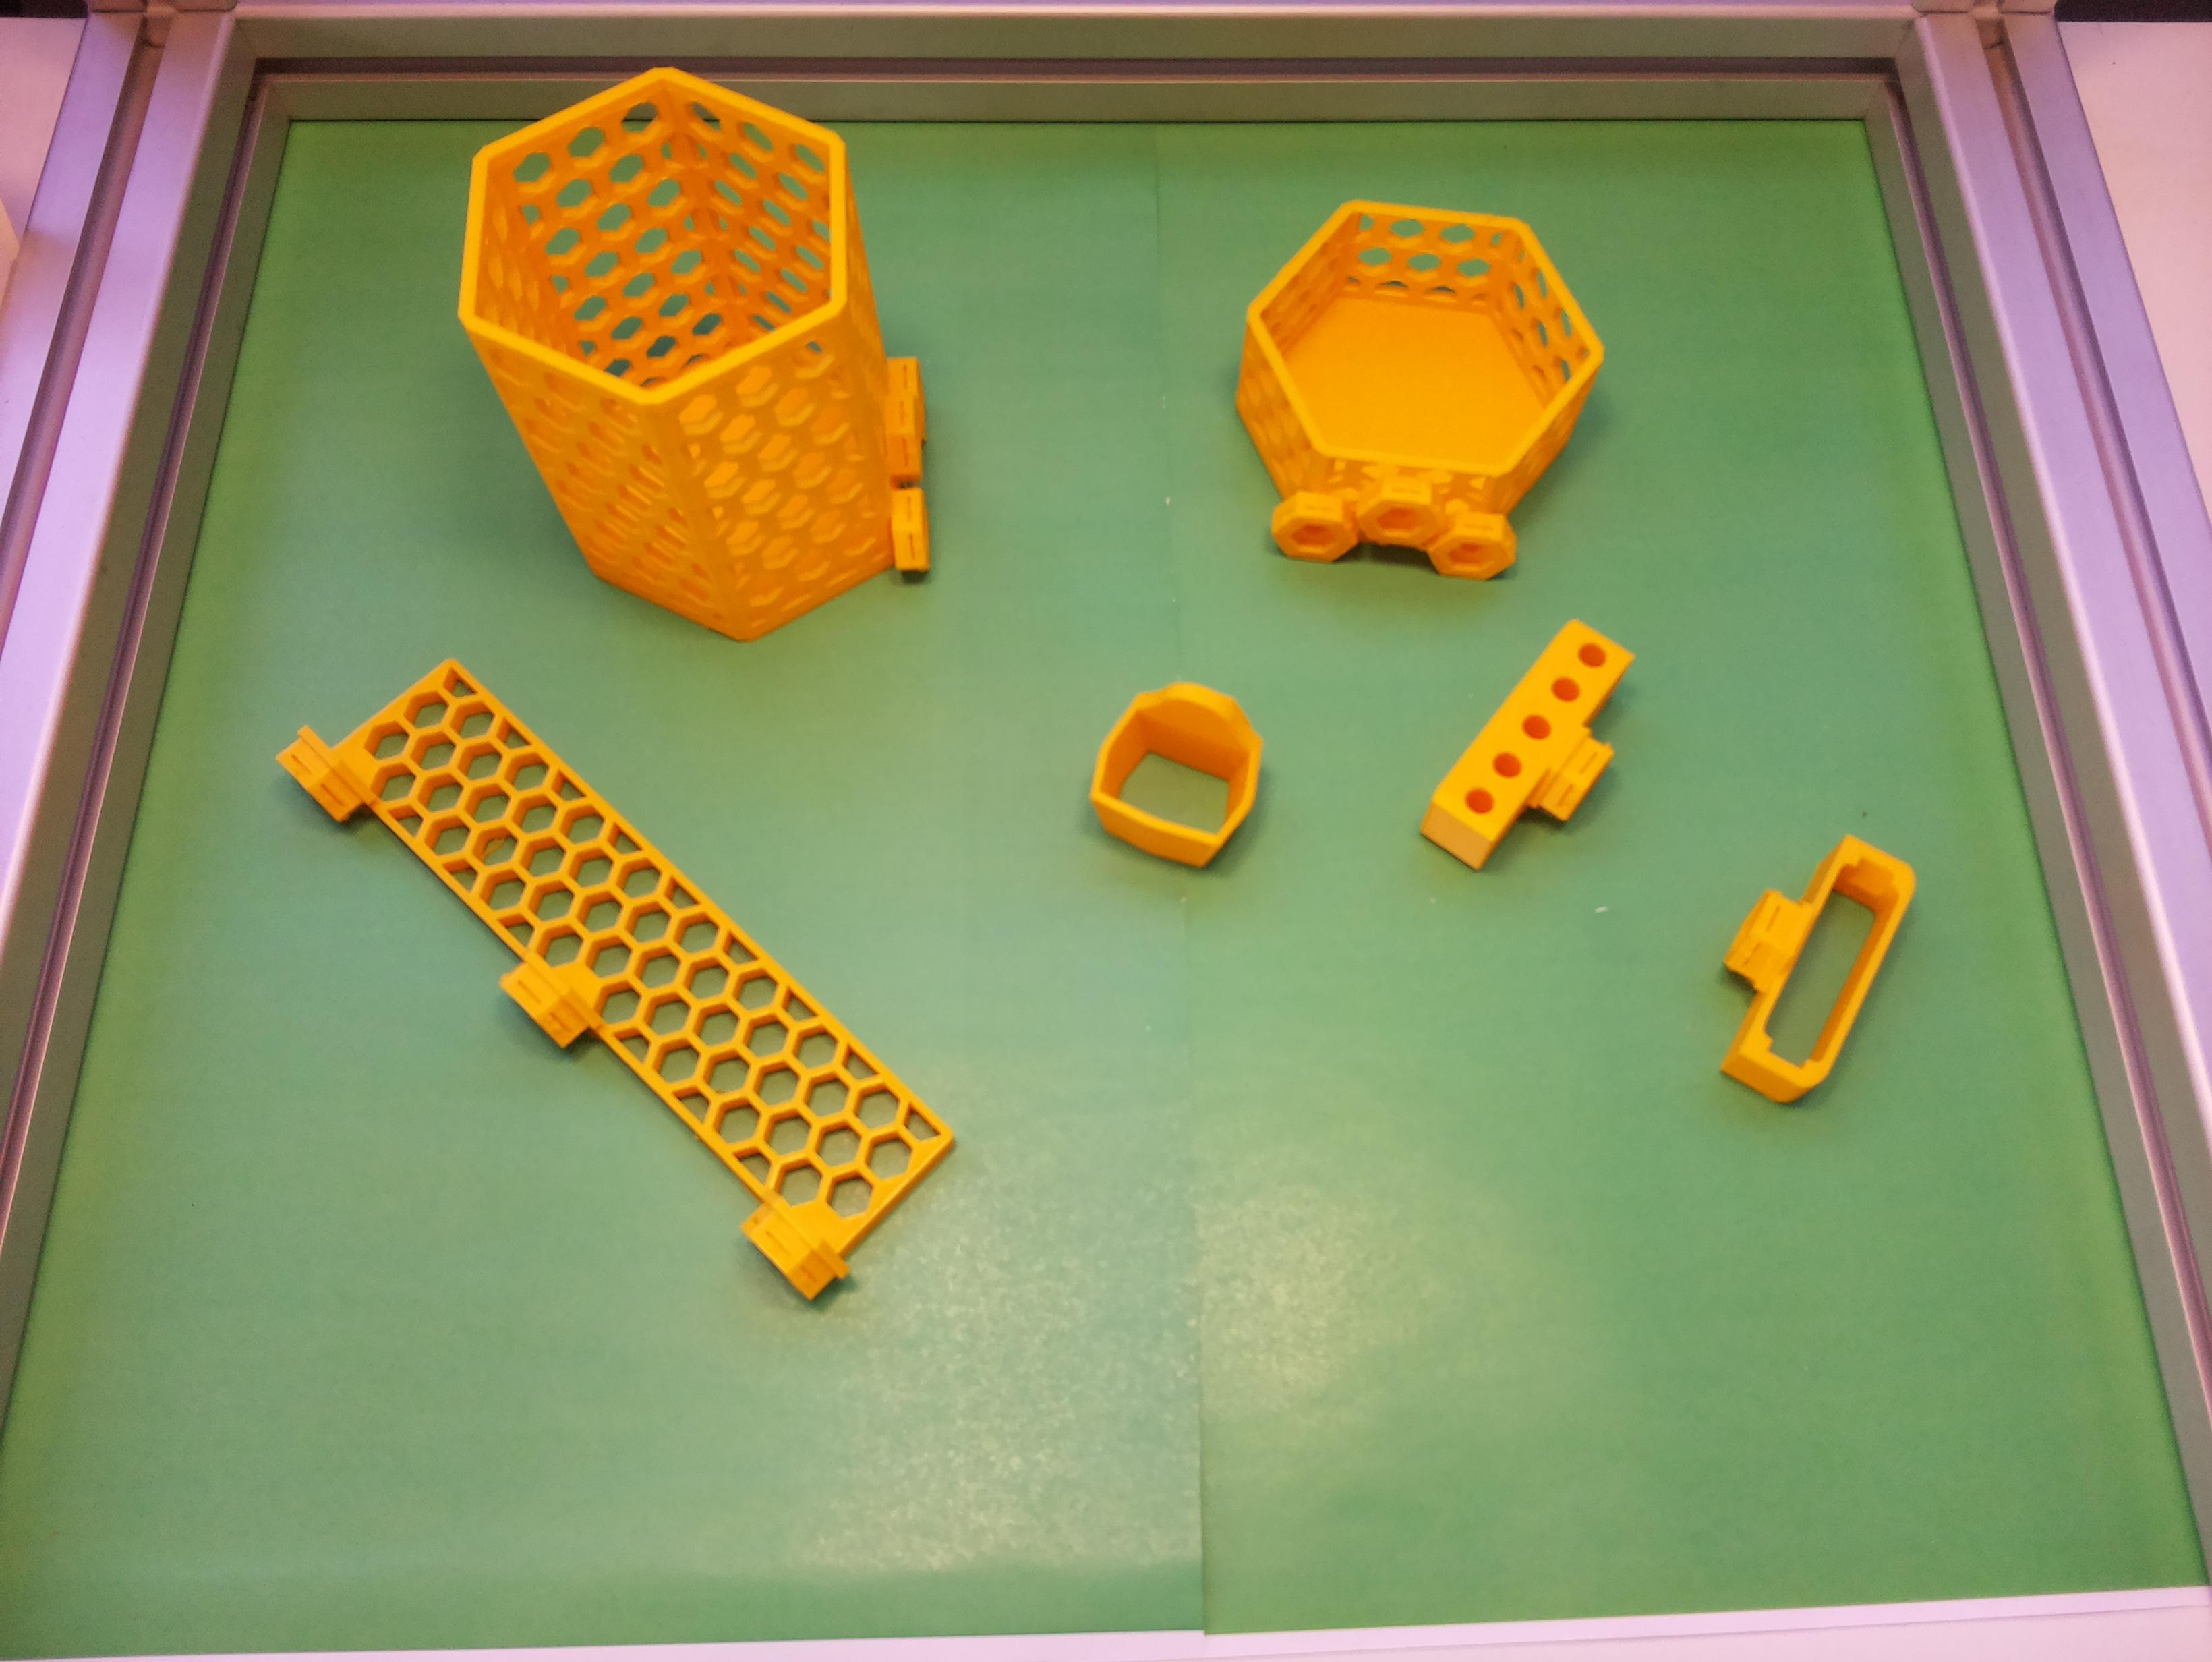bit_holder: (1411, 606, 1667, 897)
bottle_holder: (1220, 190, 1617, 588)
cup_holder: (400, 12, 1004, 695)
cutter_holder: (1680, 810, 1924, 1117)
scissor_holder: (1070, 660, 1285, 882)
tool_holder: (267, 606, 971, 1306)
